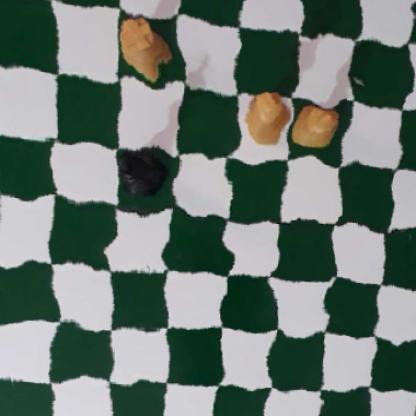black-king: (120, 146, 167, 199)
white-bishop: (292, 96, 342, 151)
white-king: (236, 85, 291, 148)
white-rook: (119, 10, 172, 73)
